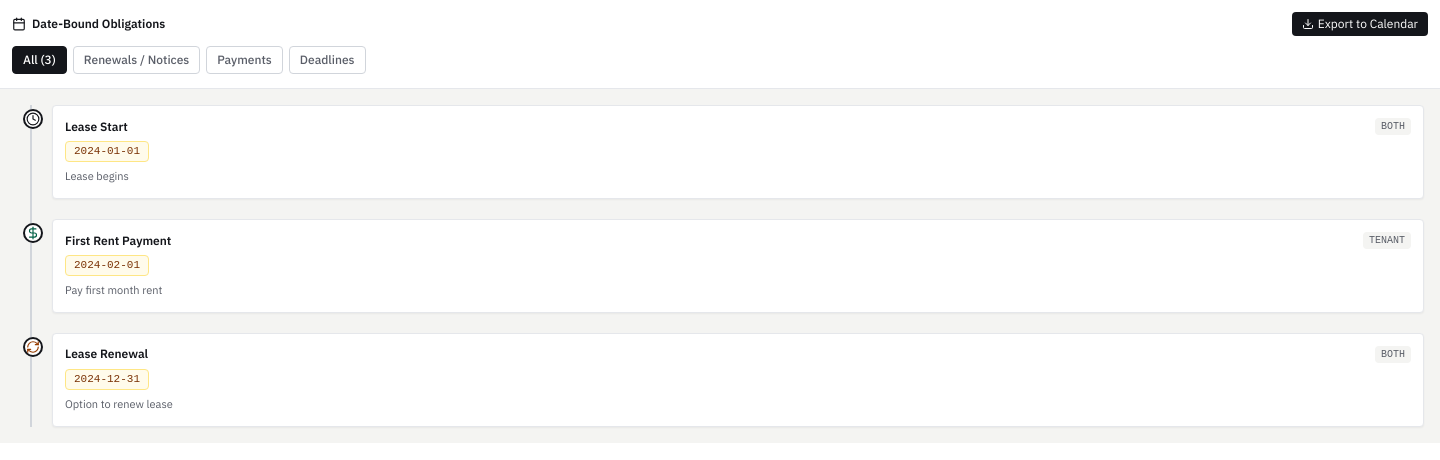
Accordion Accessibility Tests › TimelinePanel Accordion › filters timeline by category
// Find and click payment filter
Click the button "Payments": (244, 60) [206, 46, 283, 74]
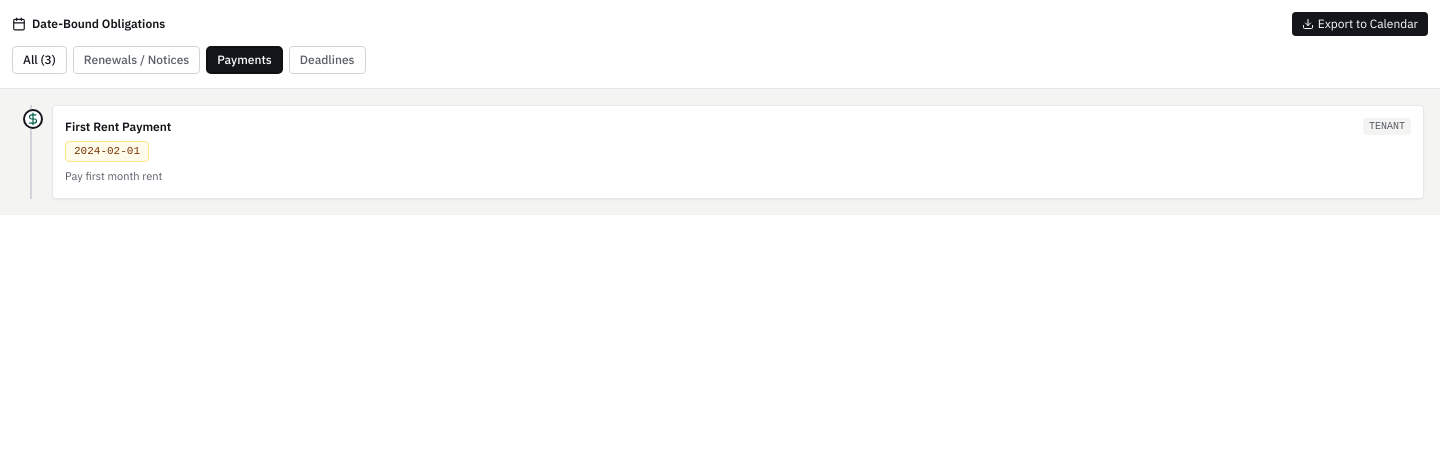
Check: the text "First Rent Payment" is shown, box [65, 119, 171, 135]
Check: the text "Lease Start" is gone
Check: the text "Lease Renewal" is gone
